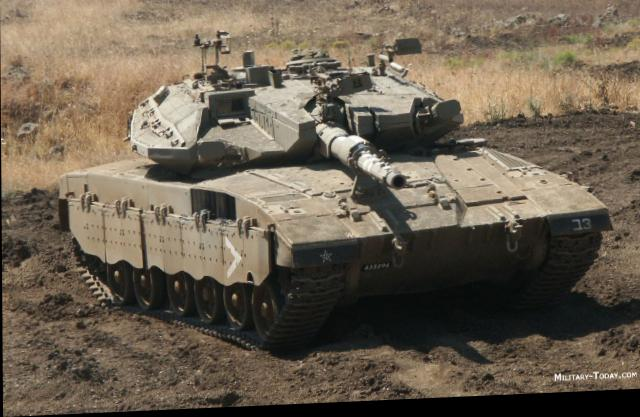tank: (92, 74, 589, 336)
